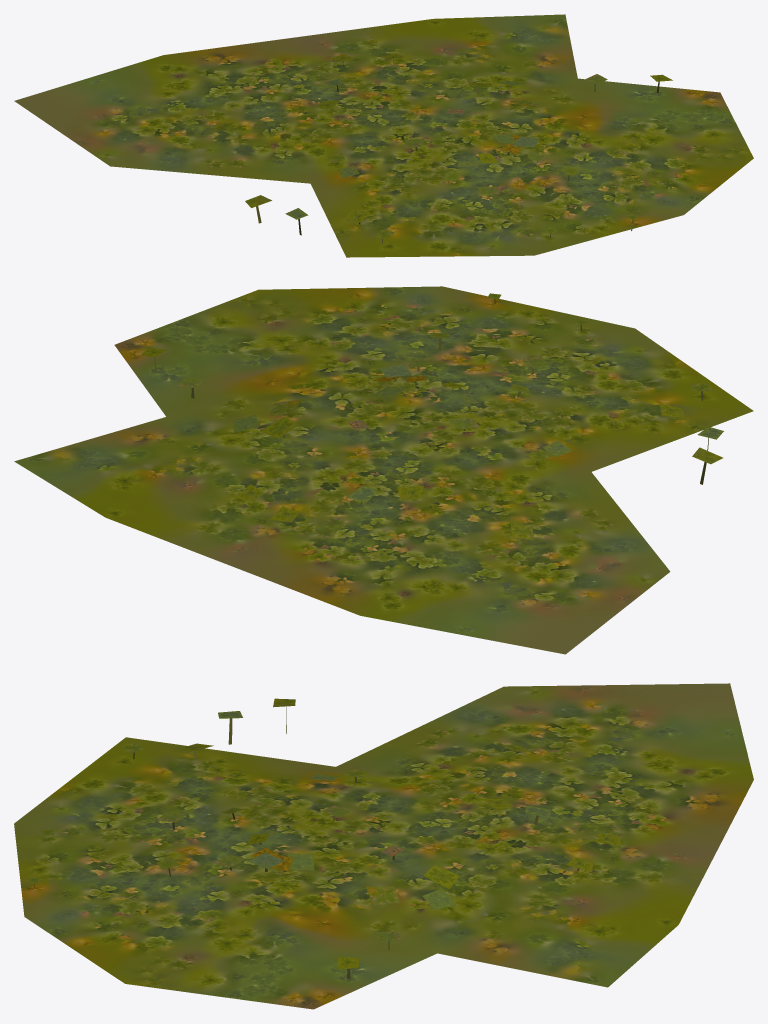
File: Clover_01_Var3.FBX
3 renders of one model, top to bottom at view 1: azimuth 30°, elevation 25°; view 2: azimuth 150°, elevation 25°; view 3: azimuth 270°, elevation 25°, orthographic. The views are drawn at different scales.
Parts seen in each view (by area): view 1: Clovers_01_Var3_Lod0; view 2: Clovers_01_Var3_Lod0; view 3: Clovers_01_Var3_Lod0.
Part boxes in pixels (bbox=[...]): Clovers_01_Var3_Lod0: bbox=[14, 14, 753, 257]; Clovers_01_Var3_Lod0: bbox=[14, 286, 753, 654]; Clovers_01_Var3_Lod0: bbox=[14, 683, 753, 1009].
Size of what is drawn, in the model's own units: 73.01 by 3.51 by 70.03.
